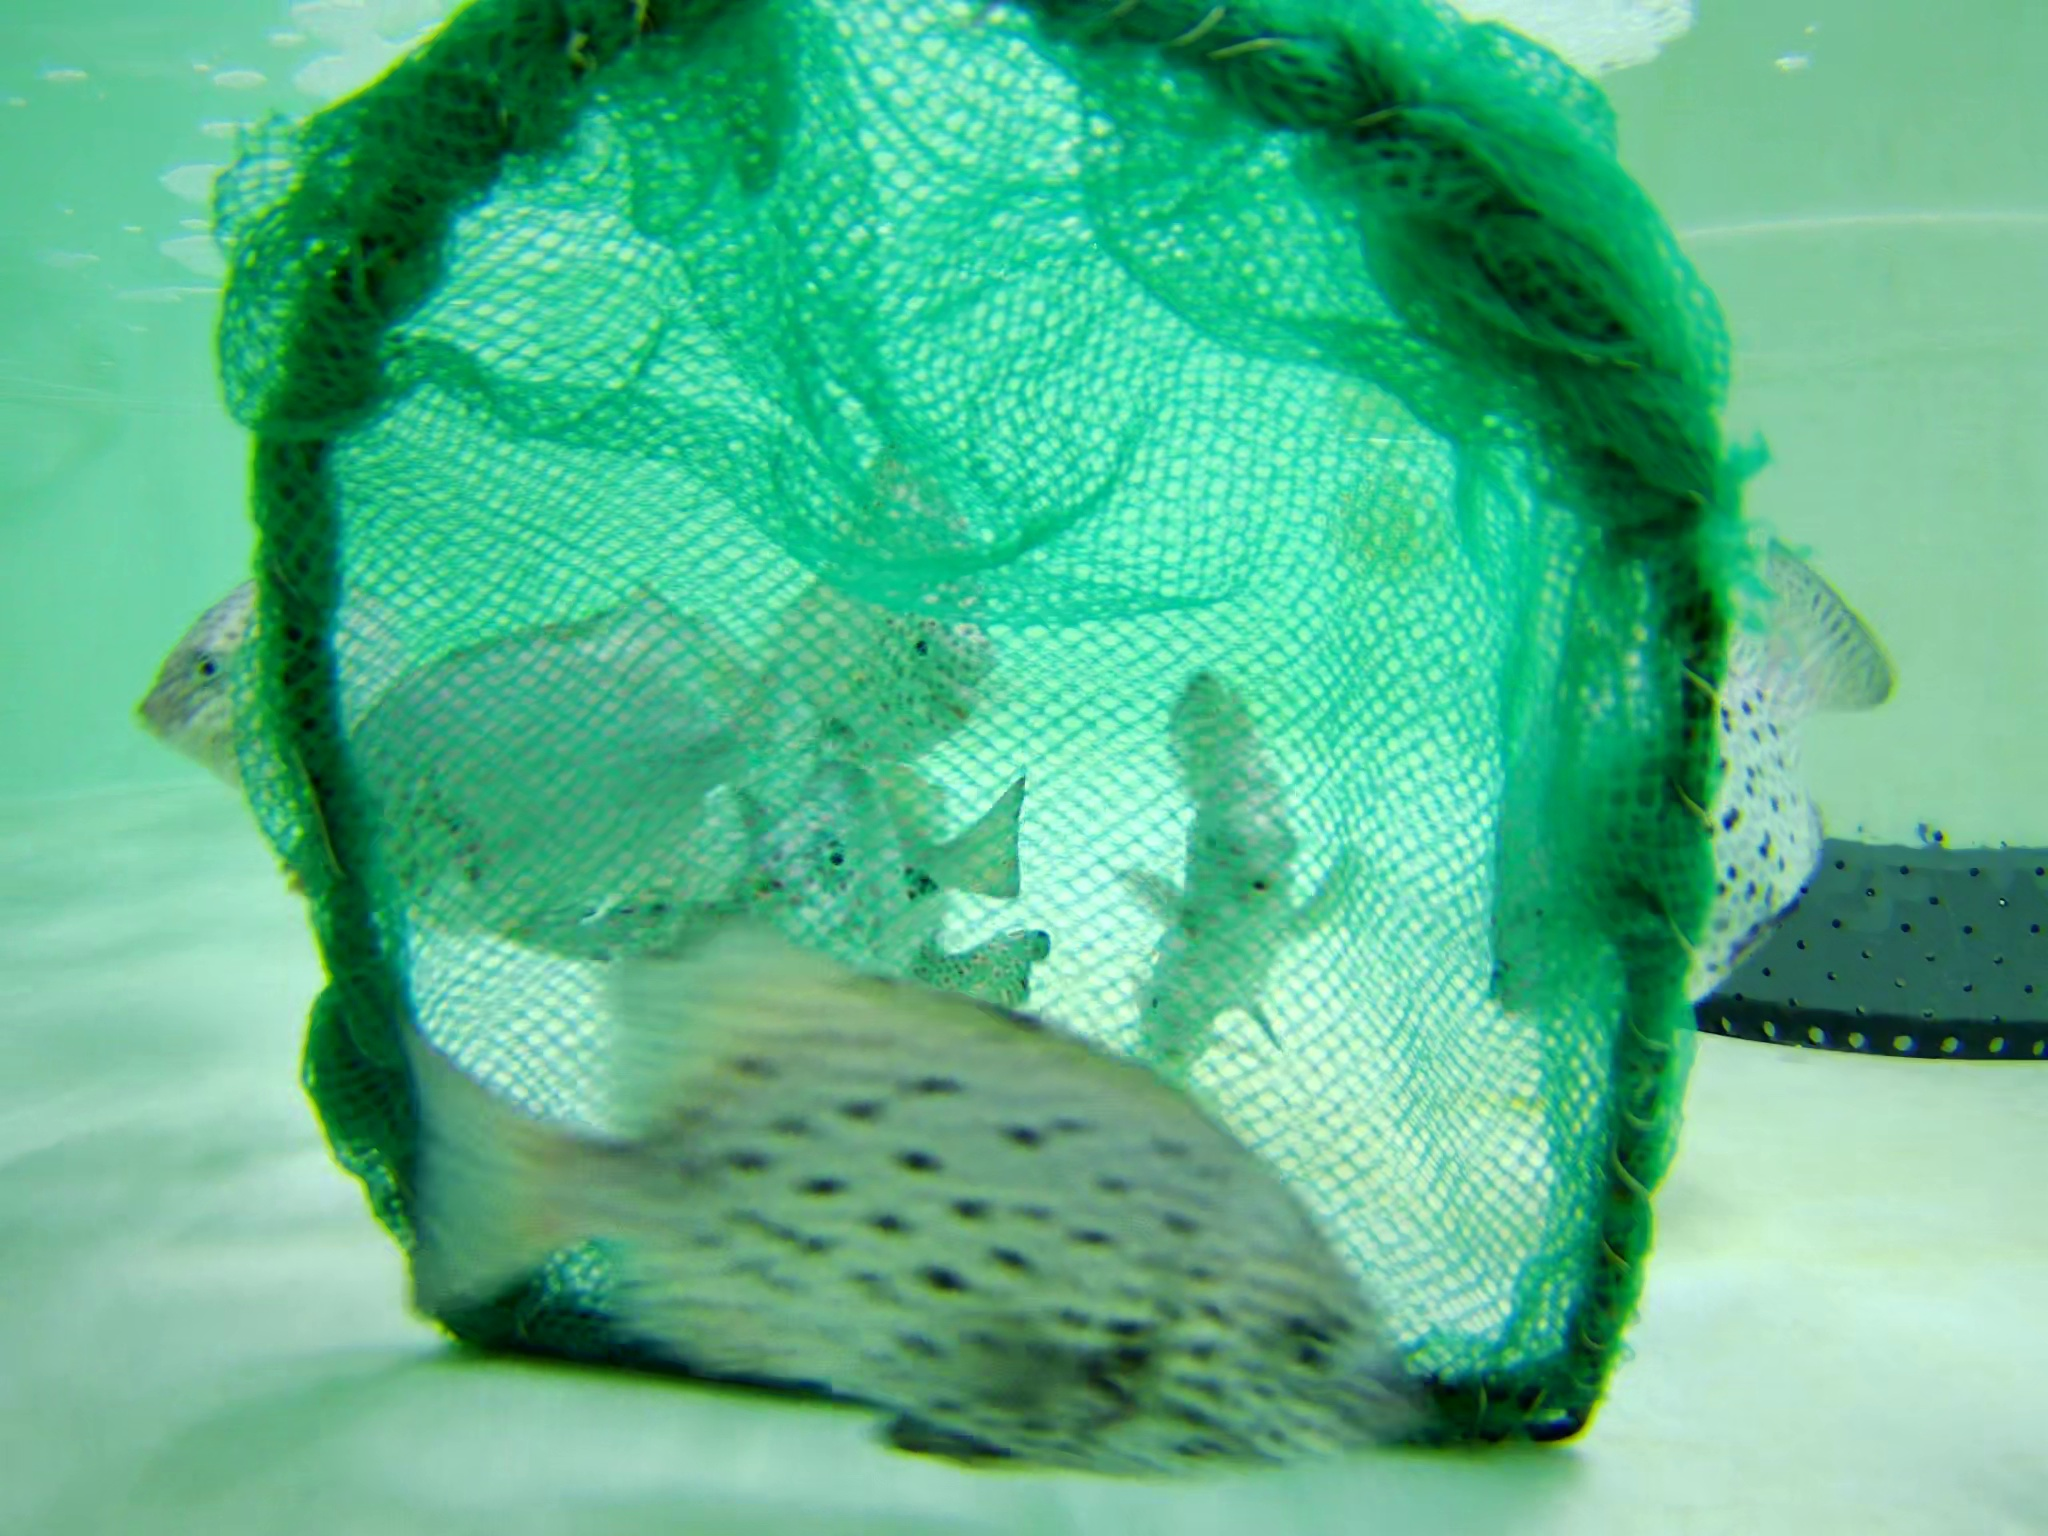fish: (389, 933, 1417, 1489), (224, 589, 764, 971), (747, 742, 1043, 1013), (548, 805, 1040, 941), (1177, 686, 1338, 1002), (132, 561, 319, 791), (810, 555, 998, 752), (1124, 871, 1226, 1078)
